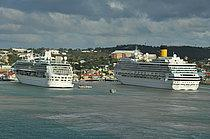Ship: (114, 45, 204, 95), (12, 50, 78, 94)
